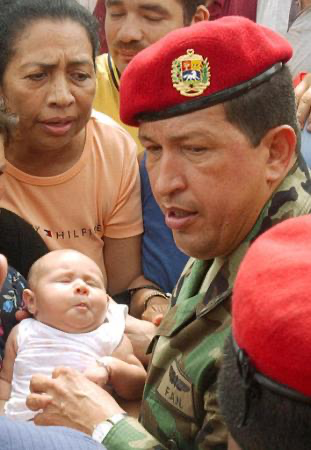Face: (137, 122, 262, 263), (13, 31, 94, 159), (106, 0, 177, 87), (37, 252, 109, 330)
